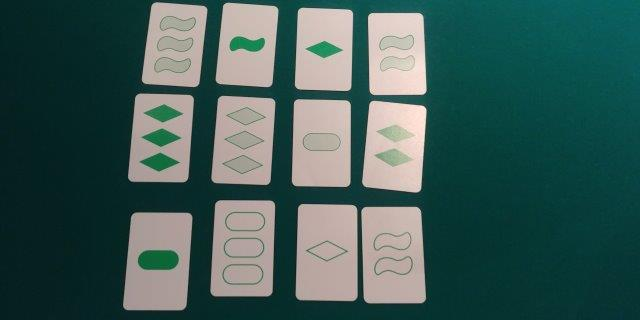1ED: (300, 207, 352, 298)
1FD: (299, 10, 348, 87)
1FP: (132, 215, 181, 306)
1FW: (223, 6, 269, 82)
1HP: (295, 101, 345, 182)
2EW: (366, 209, 418, 299)
2FD: (370, 106, 418, 185)
2HW: (370, 15, 421, 90)
3EP: (217, 202, 268, 293)
3FD: (137, 95, 185, 178)
3HD: (219, 98, 266, 182)
3HW: (152, 5, 195, 83)
